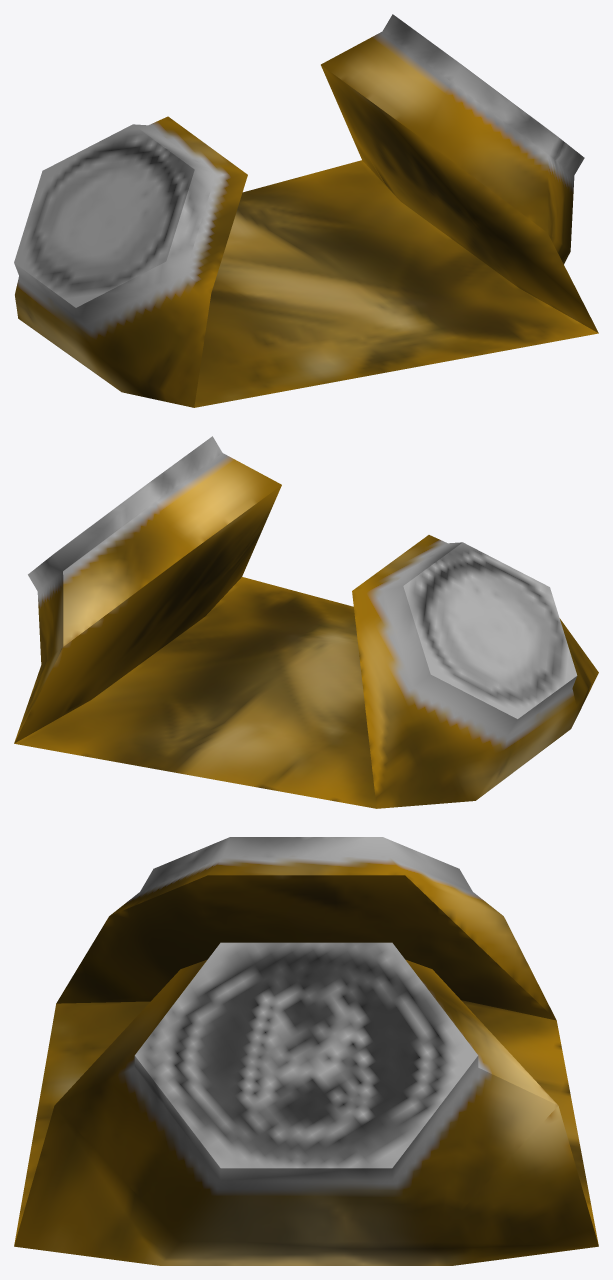
The model's file is SM_Trash_tin_3.FBX.
The picture shows the model from 3 angles, top to bottom: view 1: azimuth 30°, elevation 25°; view 2: azimuth 150°, elevation 25°; view 3: azimuth 270°, elevation 25°; orthographic projection. The views are drawn at different scales.
Visible parts, largest first — view 1: Trash_tin_3; view 2: Trash_tin_3; view 3: Trash_tin_3.
Boxes of the visible parts, x1=… form: Trash_tin_3: x1=14, y1=14, x2=598, y2=407; Trash_tin_3: x1=14, y1=436, x2=598, y2=808; Trash_tin_3: x1=14, y1=837, x2=598, y2=1265.
Bounding box in the file's own units: 8.68 × 7.05 × 3.83.
